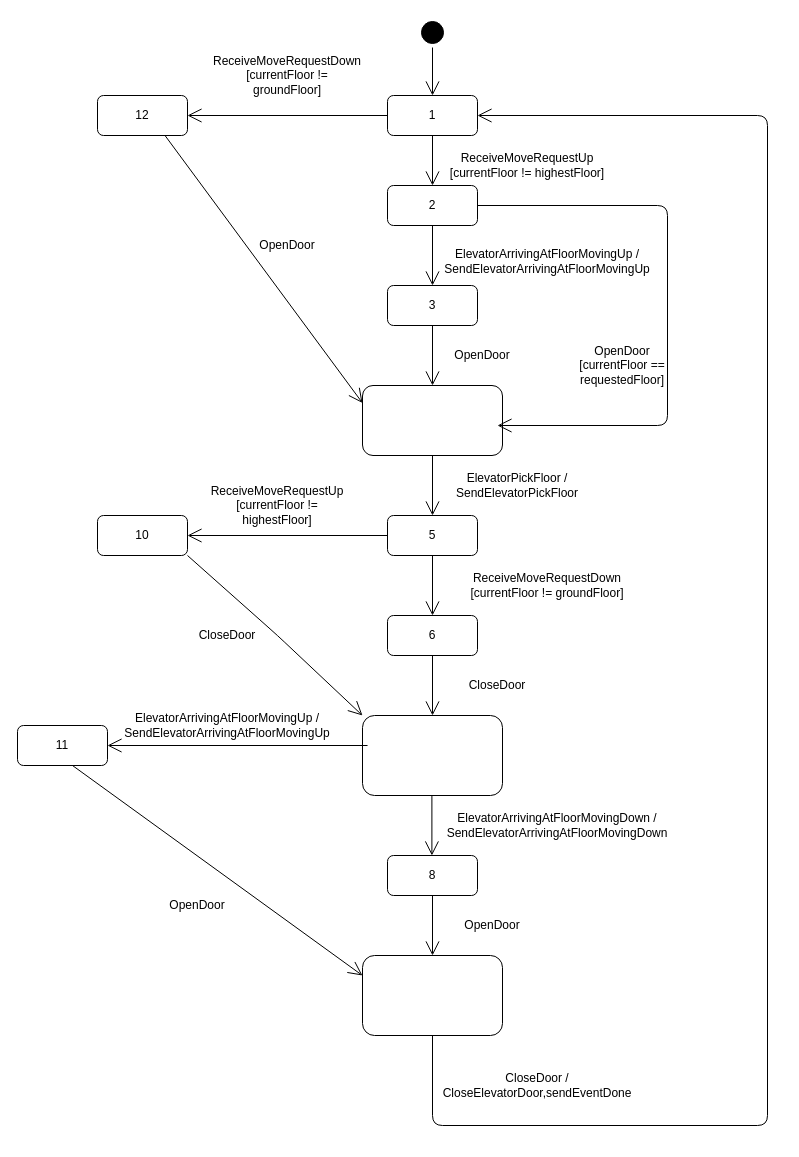
Some shapes in this 799 by 1157 pixel diagram are drawn without their labels. Here are the shapes that lost their labels. From the top down, the centre of each, then its label:
(432,420): 4 Entry/OpenElevatorDoor
(432,755): 7 Entry/CloseElevatorDoor
(432,995): 9 Entry/OpenElevatorDoor
